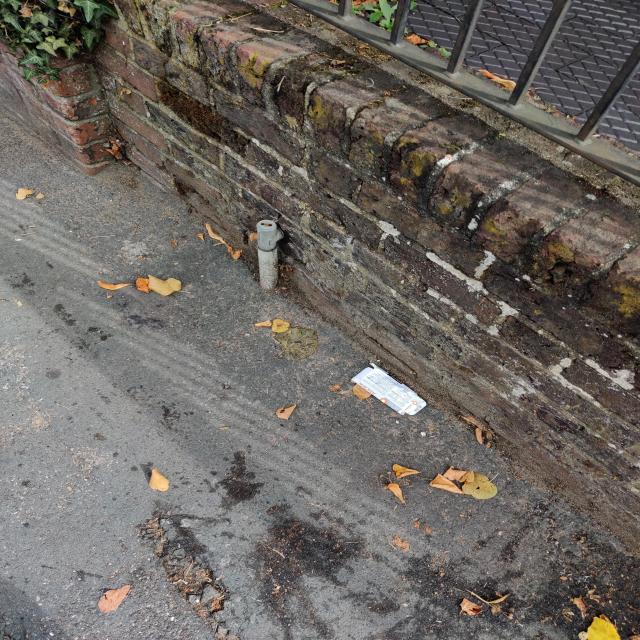litter: (346, 359, 433, 420), (253, 216, 285, 289)
